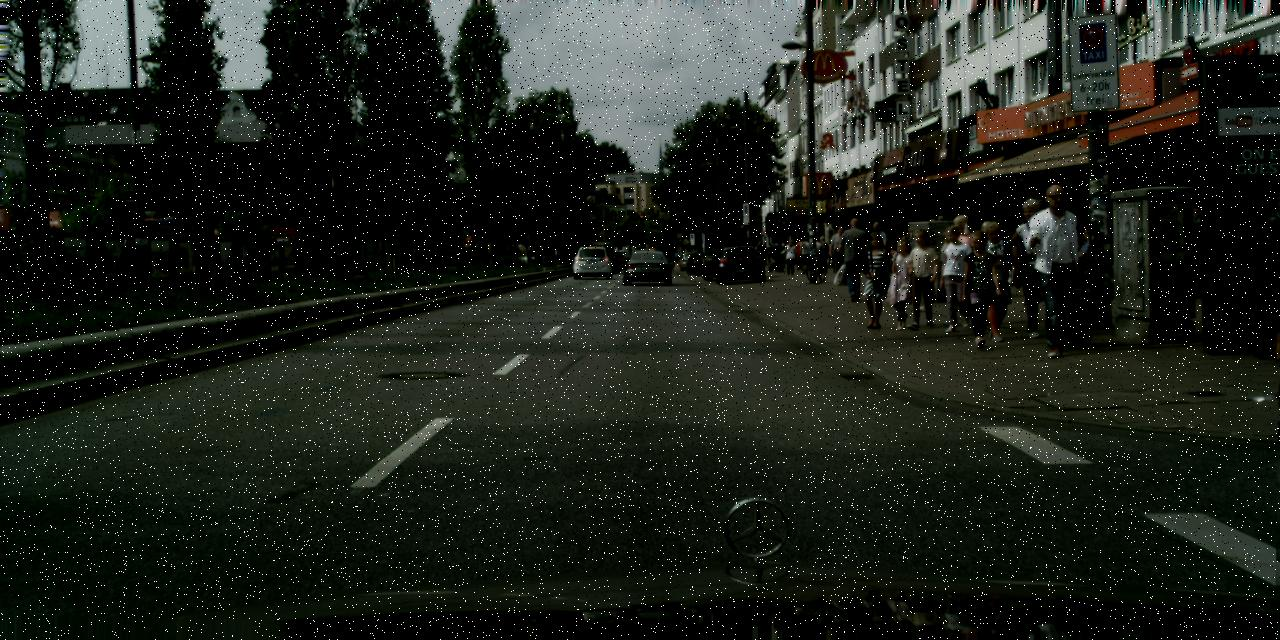ped: (1023, 184, 1093, 354), (1008, 197, 1064, 336), (969, 220, 1019, 342), (955, 229, 1004, 349), (939, 214, 984, 326), (1014, 195, 1059, 304), (965, 220, 1007, 324), (935, 224, 977, 327), (902, 229, 942, 328), (853, 230, 893, 328), (883, 236, 921, 330), (1176, 204, 1214, 296), (837, 218, 872, 302), (866, 220, 888, 278), (830, 224, 851, 277), (1009, 240, 1024, 284), (783, 238, 798, 274), (798, 236, 812, 273), (816, 235, 830, 271), (810, 236, 824, 270), (1078, 228, 1089, 270), (793, 238, 805, 269), (773, 240, 785, 270), (776, 238, 786, 268), (766, 238, 776, 265), (754, 242, 763, 264), (424, 248, 432, 266), (437, 253, 443, 269), (752, 236, 761, 246), (683, 249, 688, 264), (674, 251, 679, 263), (1008, 237, 1011, 240)
